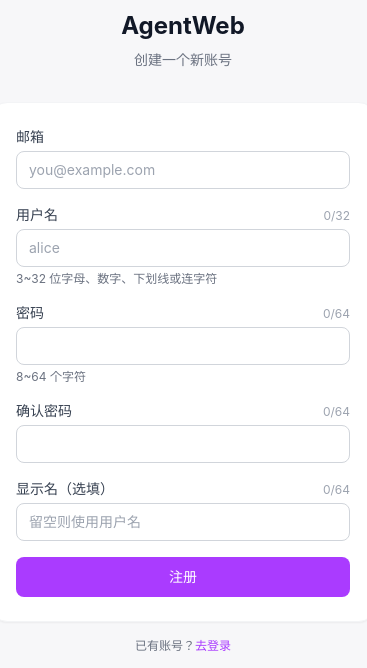
RegisterPage › 用户名含非法字符时本地拦下（与后端 pattern 对齐）
Type "bob@example.com" into the field labelled "邮箱". click: (183, 170)
box: top-left (16, 151), bottom-right (350, 189)
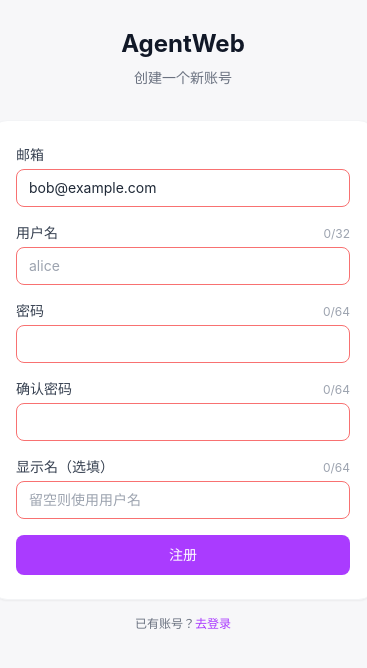
Type "张三丰" into the field labelled "用户名". click: (183, 266)
box: top-left (16, 247), bottom-right (350, 285)
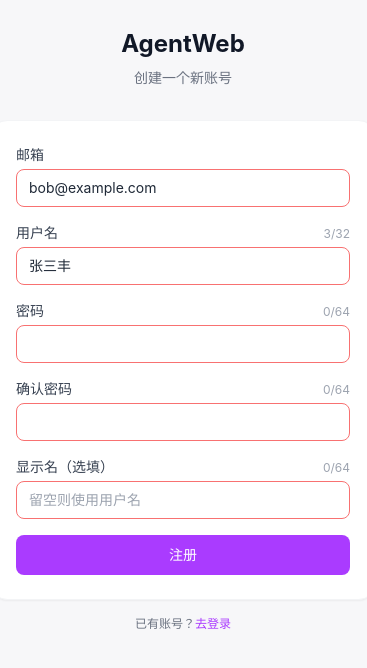
Type "secret123" into the password field labelled "密码". click: (183, 344)
box: top-left (16, 325), bottom-right (350, 363)
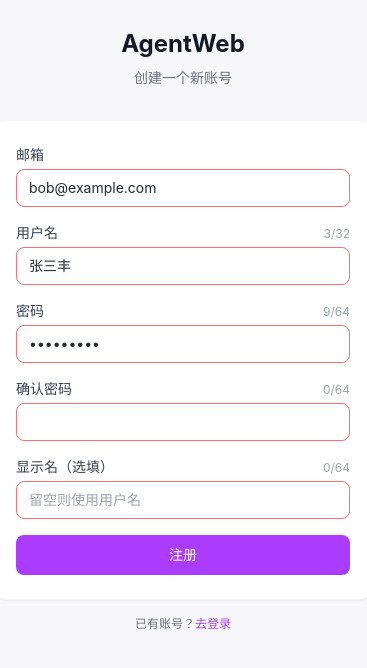
Type "secret123" into the password field labelled "确认密码". click: (183, 422)
box: top-left (16, 403), bottom-right (350, 441)
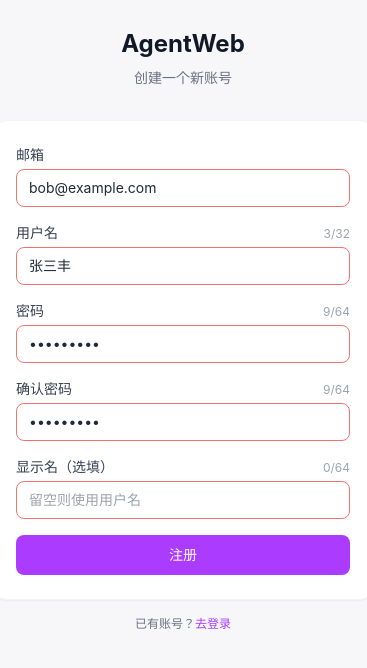
Submit the form "注册", box top-left (16, 145), bottom-right (350, 575)
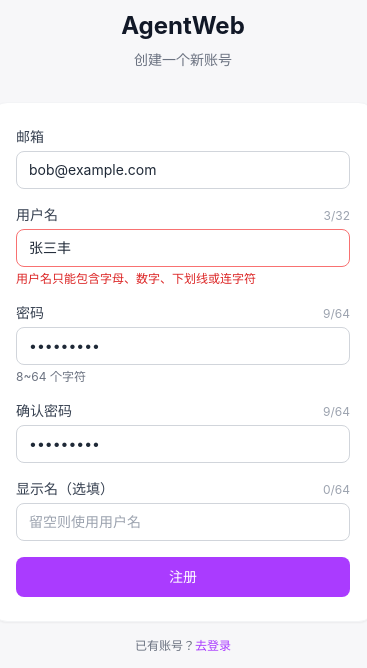
Result: the text "用户名只能包含字母、数字、下划线或连字符" is shown at top-left (16, 271), bottom-right (256, 286)
